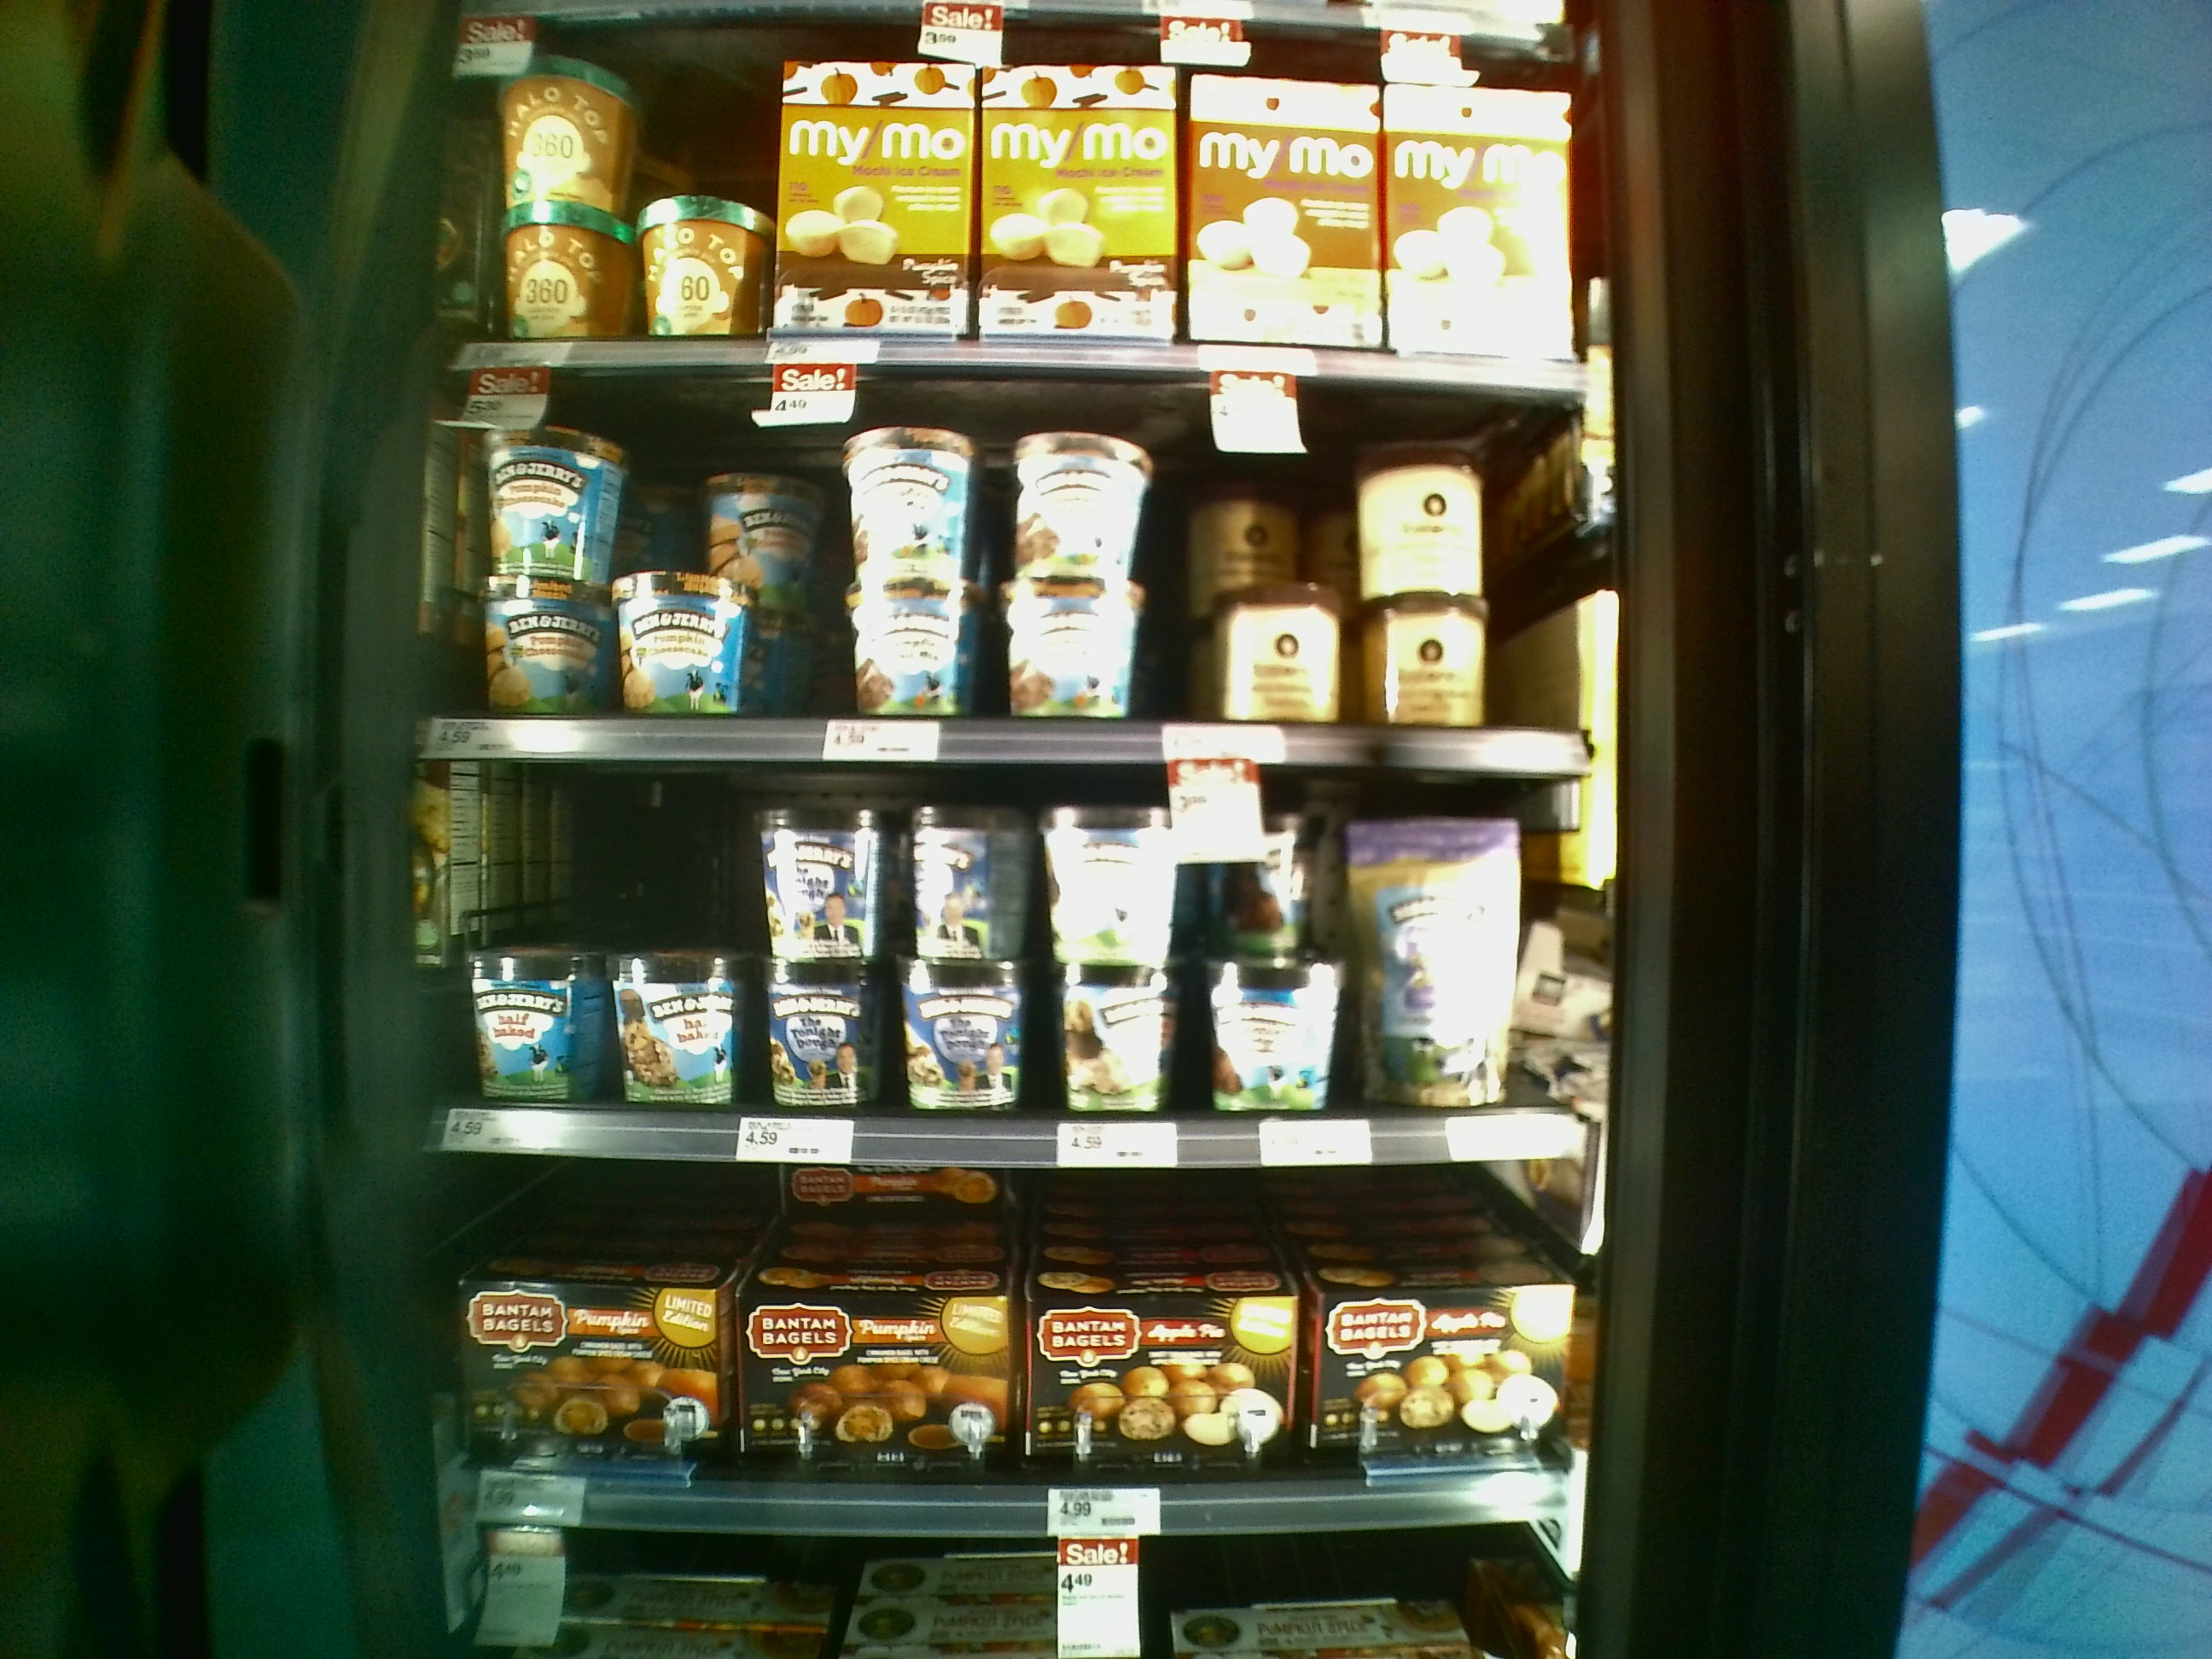shelf: (397, 727, 1608, 1169), (404, 352, 1599, 779), (383, 1122, 1583, 1535)
